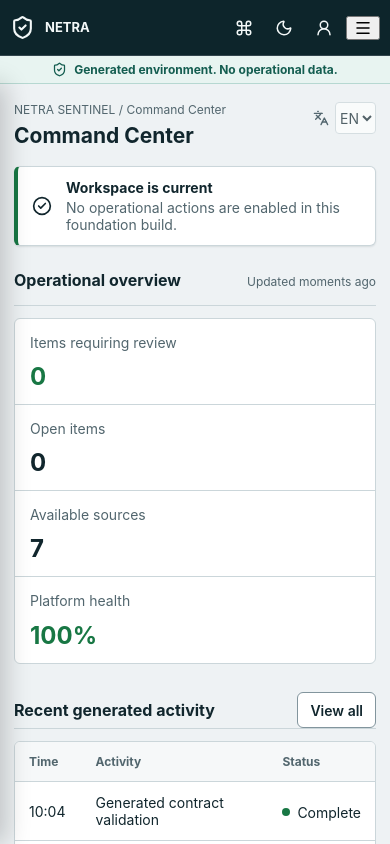
Test case: application shell › toggles compact navigation and closes it after route selection
Click the button named "Open navigation" at (363, 28), box [346,16,380,40]
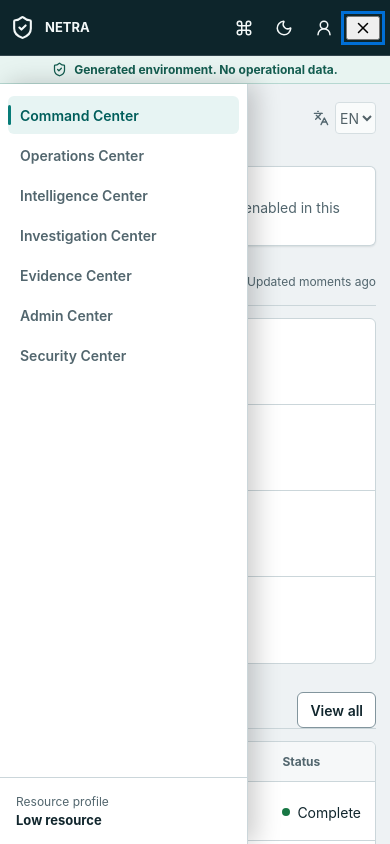
Now the button named "Open navigation" is expanded, box [346,16,380,40]
Click the link "Command Center" at (124, 115), box [8,96,239,134]
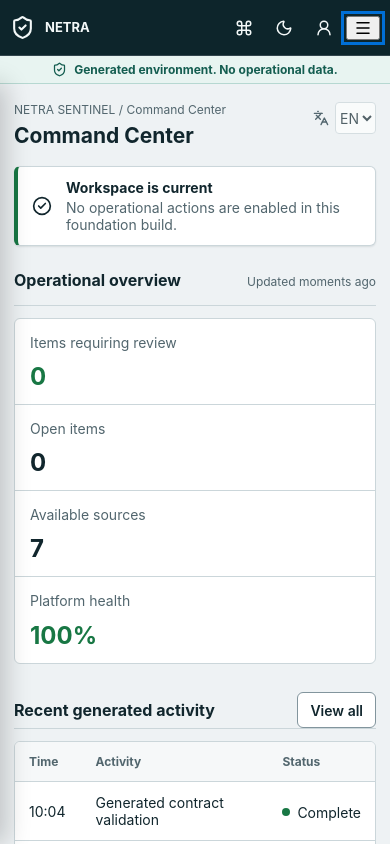
Now the button named "Open navigation" is collapsed, box [346,16,380,40]
